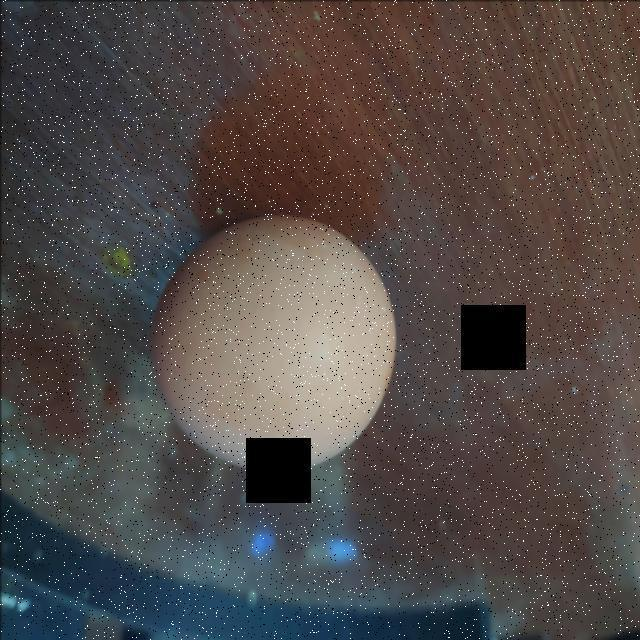egg: (144, 210, 402, 475)
